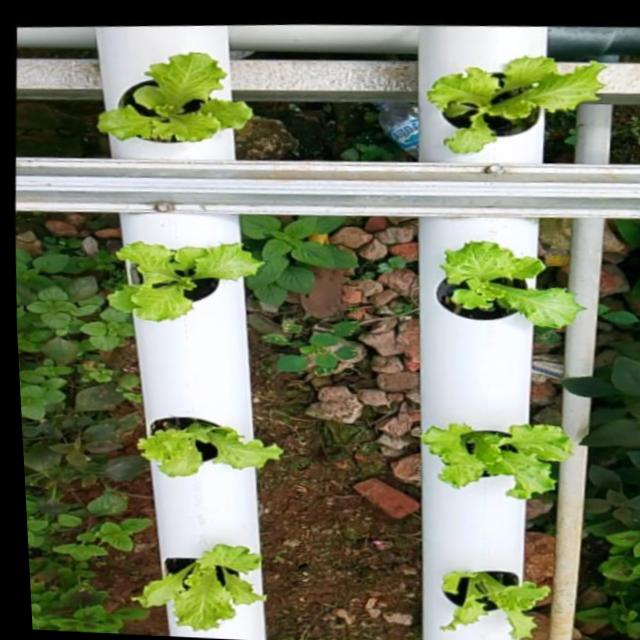Baby: (437, 64, 615, 161), (107, 57, 261, 163), (440, 241, 588, 329), (117, 245, 274, 326), (425, 424, 578, 499), (138, 544, 271, 630), (143, 417, 288, 477), (446, 570, 555, 638)
